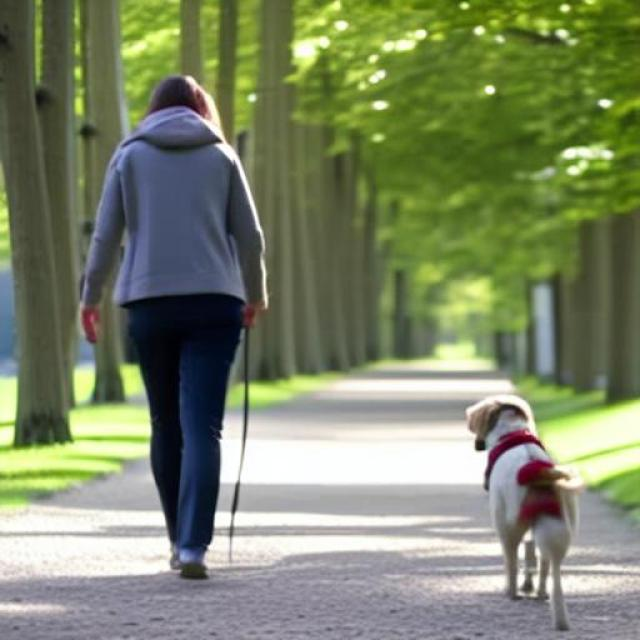Unleashed_Dog: (179, 323, 577, 632)
